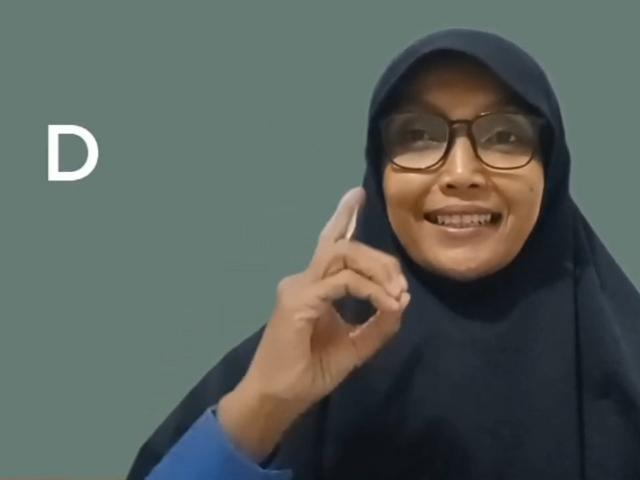D: (233, 186, 412, 418)
